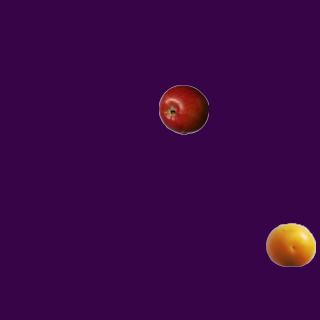Apple Braeburn: (158, 84, 208, 134)
Cherry Wax Yellow: (265, 219, 315, 269)
